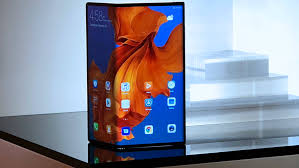huawei: (111, 1, 186, 148)
